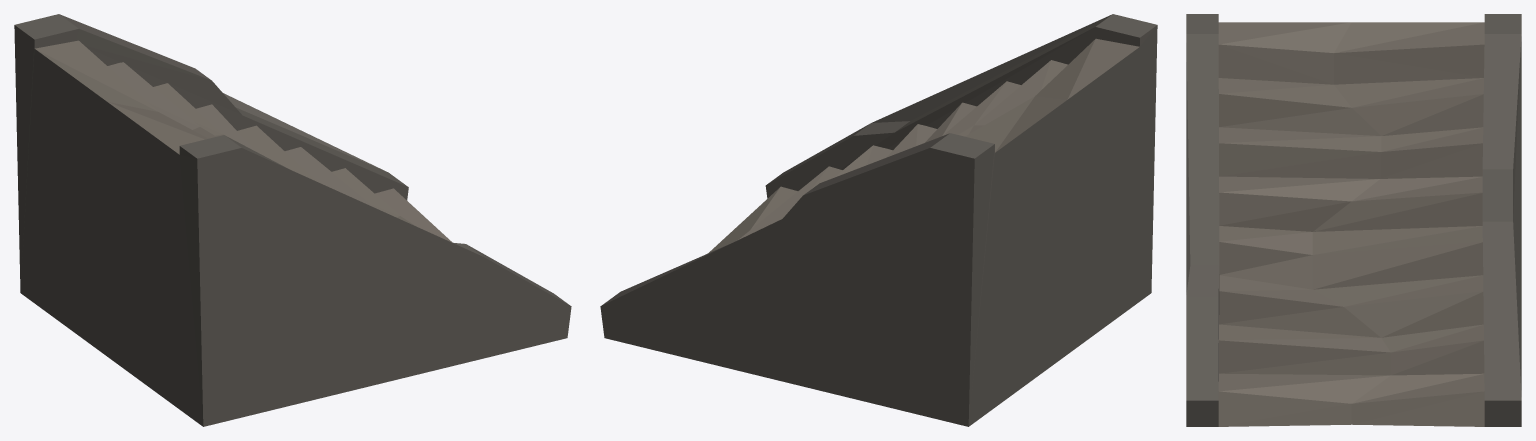
File: SM_Bld_Fort_Stairs_01.glb
3 views of the same model, side by side, from view 1: azimuth 30°, elevation 25°; view 2: azimuth 150°, elevation 25°; view 3: azimuth 270°, elevation 25° (orthographic). The views are drawn at different scales.
Parts seen in each view (by area): view 1: SM_Bld_Fort_Stairs_01_part00; view 2: SM_Bld_Fort_Stairs_01_part00; view 3: SM_Bld_Fort_Stairs_01_part00.
Part boxes in pixels (box(x1,y1,x2,y2)): SM_Bld_Fort_Stairs_01_part00: box(14, 14, 571, 426); SM_Bld_Fort_Stairs_01_part00: box(600, 14, 1157, 426); SM_Bld_Fort_Stairs_01_part00: box(1186, 14, 1521, 426).
Size of the model in its own units: 3.82 by 2.63 by 3.23.
1 material, 1 textured.
